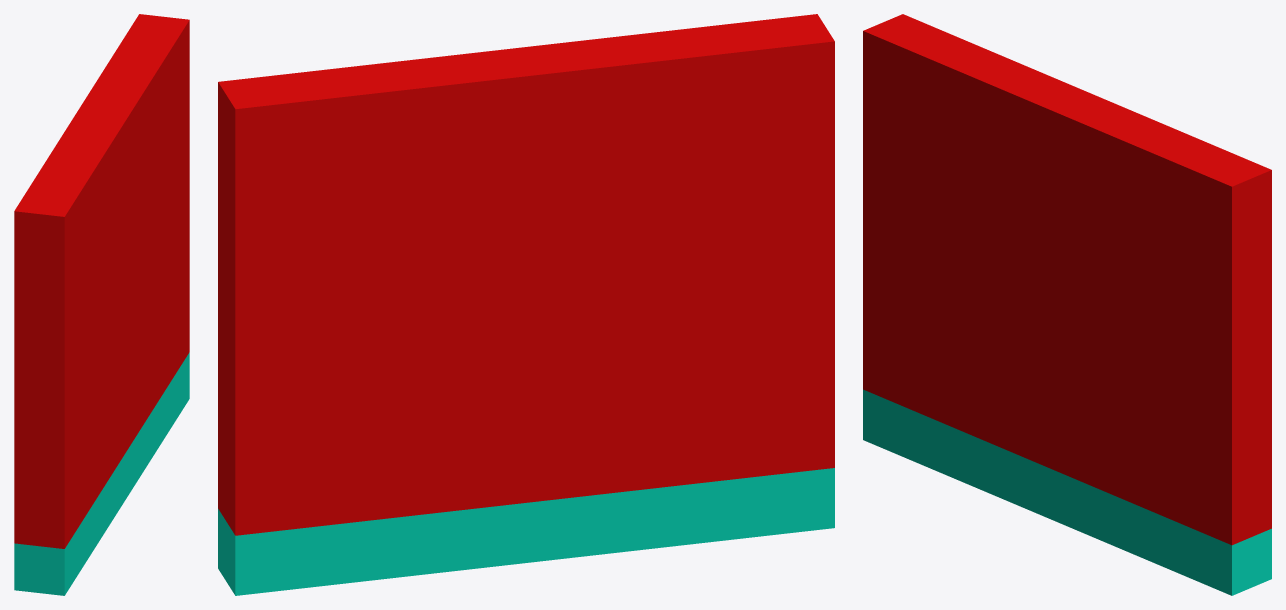
File: fbx_LiftWallv_1.0.fbx
3 renders of one model, left to right at view 1: azimuth 30°, elevation 25°; view 2: azimuth 150°, elevation 25°; view 3: azimuth 270°, elevation 25°, orthographic. The views are drawn at different scales.
Parts seen in each view (by area): view 1: pCube1; view 2: pCube1; view 3: pCube1.
Part boxes in pixels (bbox=[...]): pCube1: bbox=[14, 14, 189, 595]; pCube1: bbox=[218, 14, 834, 595]; pCube1: bbox=[863, 14, 1271, 595].
Size of the model in its own units: 413 by 456 by 413.
